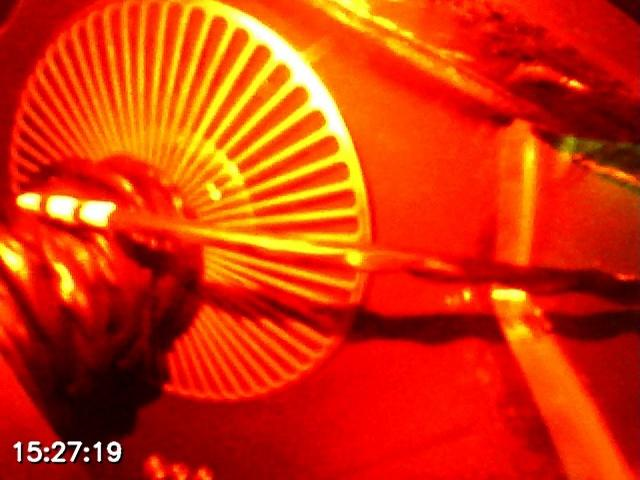white-dots: (17, 193, 116, 228)
